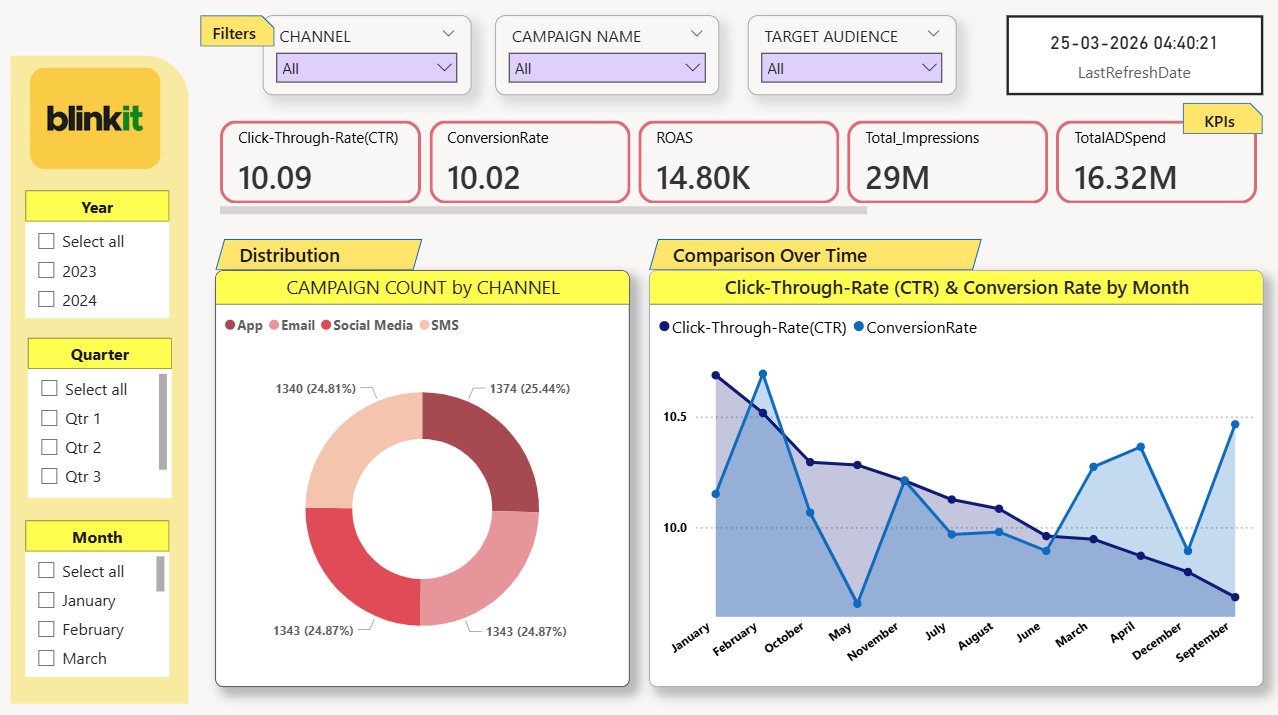

This screenshot's page, from the dashboard's own definition file:
{"tool":"powerbi","page":{"name":"Marketing Performance Report ","canvas":[1280,720],"ordinal":4},"visuals":[{"type":"slicer","fields":{"Values":["BLINKIT_MARKETING_PERFORMANCE.CHANNEL"]},"box":[264.3,15.7,208.6,80],"z":0},{"type":"shape","box":[11.4,55.7,178.6,648.6],"z":1000},{"type":"cardVisual","fields":{"Data":["MarketingTables_kPI's.Click-Through-Rate(CTR)","MarketingTables_kPI's.ConversionRate","MarketingTables_kPI's.ROAS","MarketingTables_kPI's.Total_Impressions","MarketingTables_kPI's.TotalADSpend","MarketingTables_kPI's.TotalClicks","MarketingTables_kPI's.TotalConversions","MarketingTables_kPI's.TotalRevenue"]},"box":[215.7,111.4,1048.6,111.4],"z":2000},{"type":"slicer","fields":{"Values":["DateTable.Date.Variation.Date Hierarchy.Year"]},"box":[25.7,222.9,144.3,97.1],"z":3000},{"type":"slicer","fields":{"Values":["DateTable.Date.Variation.Date Hierarchy.Quarter"]},"box":[28.6,370,144.3,128.6],"z":4000},{"type":"slicer","fields":{"Values":["DateTable.Date.Variation.Date Hierarchy.Month"]},"box":[25.7,552.9,144.3,125.7],"z":5000},{"type":"shape","title":"KPI","box":[25.7,191.4,144.3,31.4],"z":6000},{"type":"shape","title":"KPI","box":[28.6,338.6,144.3,31.4],"z":7000},{"type":"shape","title":"KPI","box":[25.7,521.4,144.3,31.4],"z":8000},{"type":"shape","title":"KPI","box":[201.4,15.7,74.3,31.4],"z":9000},{"type":"slicer","fields":{"Values":["BLINKIT_MARKETING_PERFORMANCE.CAMPAIGN_NAME"]},"box":[495.7,15.7,224.3,80],"z":10000},{"type":"slicer","fields":{"Values":["BLINKIT_MARKETING_PERFORMANCE.TARGET_AUDIENCE"]},"box":[748.6,15.7,208.6,80],"z":11000},{"type":"shape","title":"KPI","box":[215.7,240,207.1,31.4],"z":12000},{"type":"donutChart","title":"CAMPAIGN COUNT by CHANNEL","fields":{"Category":["BLINKIT_MARKETING_PERFORMANCE.CHANNEL"],"Y":["CountNonNull(BLINKIT_MARKETING_PERFORMANCE.CAMPAIGN_ID)"]},"box":[215.7,271.4,414.3,417.1],"z":13000},{"type":"shape","title":"KPI","box":[650,240,332.9,31.4],"z":14000},{"type":"card","fields":{"Values":["Last Refresh.LastRefreshDate"]},"box":[1007.1,15.7,257.1,80],"z":15000},{"type":"lineChart","title":"Click-Through-Rate (CTR)  & Conversion Rate by Month","fields":{"Y":["MarketingTables_kPI's.Click-Through-Rate(CTR)"],"Category":["DateTable.Month Name"],"Y2":["MarketingTables_kPI's.ConversionRate"]},"box":[650,271.4,614.3,417.1],"z":16000},{"type":"image","box":[25.7,64.3,140,111.4],"z":17000},{"type":"shape","title":"KPI","box":[1184.3,104.3,80,31.4],"z":18000}]}

Visuals, with their boxes in screenshot pixels (x1, y1, x2, y2), scaled from the page's 1280x720 canvas onto the 1278x715 screenshot:
slicer - BLINKIT_MARKETING_PERFORMANCE.CHANNEL: x1=264 y1=16 x2=472 y2=95
shape: x1=11 y1=55 x2=190 y2=699
cardVisual - MarketingTables_kPI's.Click-Through-Rate(CTR) x MarketingTables_kPI's.ConversionRate: x1=215 y1=111 x2=1262 y2=221
slicer - DateTable.Date.Variation.Date Hierarchy.Year: x1=26 y1=221 x2=170 y2=318
slicer - DateTable.Date.Variation.Date Hierarchy.Quarter: x1=29 y1=367 x2=173 y2=495
slicer - DateTable.Date.Variation.Date Hierarchy.Month: x1=26 y1=549 x2=170 y2=674
"KPI" shape: x1=26 y1=190 x2=170 y2=221
"KPI" shape: x1=29 y1=336 x2=173 y2=367
"KPI" shape: x1=26 y1=518 x2=170 y2=549
"KPI" shape: x1=201 y1=16 x2=275 y2=47
slicer - BLINKIT_MARKETING_PERFORMANCE.CAMPAIGN_NAME: x1=495 y1=16 x2=719 y2=95
slicer - BLINKIT_MARKETING_PERFORMANCE.TARGET_AUDIENCE: x1=747 y1=16 x2=956 y2=95
"KPI" shape: x1=215 y1=238 x2=422 y2=270
"CAMPAIGN COUNT by CHANNEL" donutChart: x1=215 y1=270 x2=629 y2=684
"KPI" shape: x1=649 y1=238 x2=981 y2=270
card - Last Refresh.LastRefreshDate: x1=1006 y1=16 x2=1262 y2=95
"Click-Through-Rate (CTR)  & Conversion Rate by Month" lineChart: x1=649 y1=270 x2=1262 y2=684
image: x1=26 y1=64 x2=165 y2=174
"KPI" shape: x1=1182 y1=104 x2=1262 y2=135
